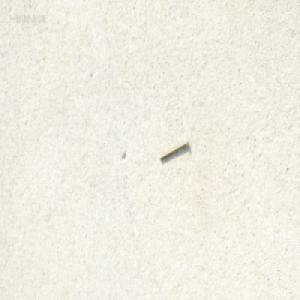Bolt: (159, 137, 188, 161)
